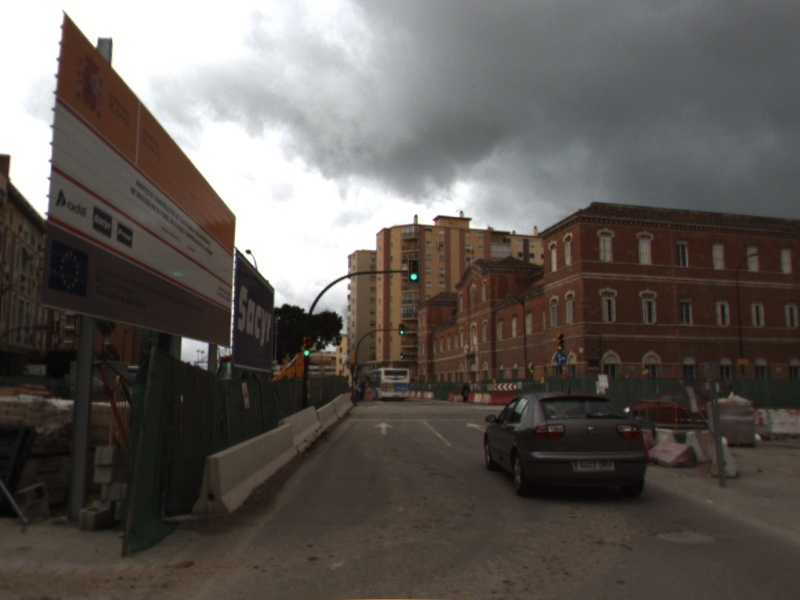STRAIGHT: (371, 421, 397, 436), (463, 420, 490, 434)
